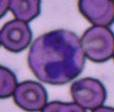N: (27, 29, 85, 84)
